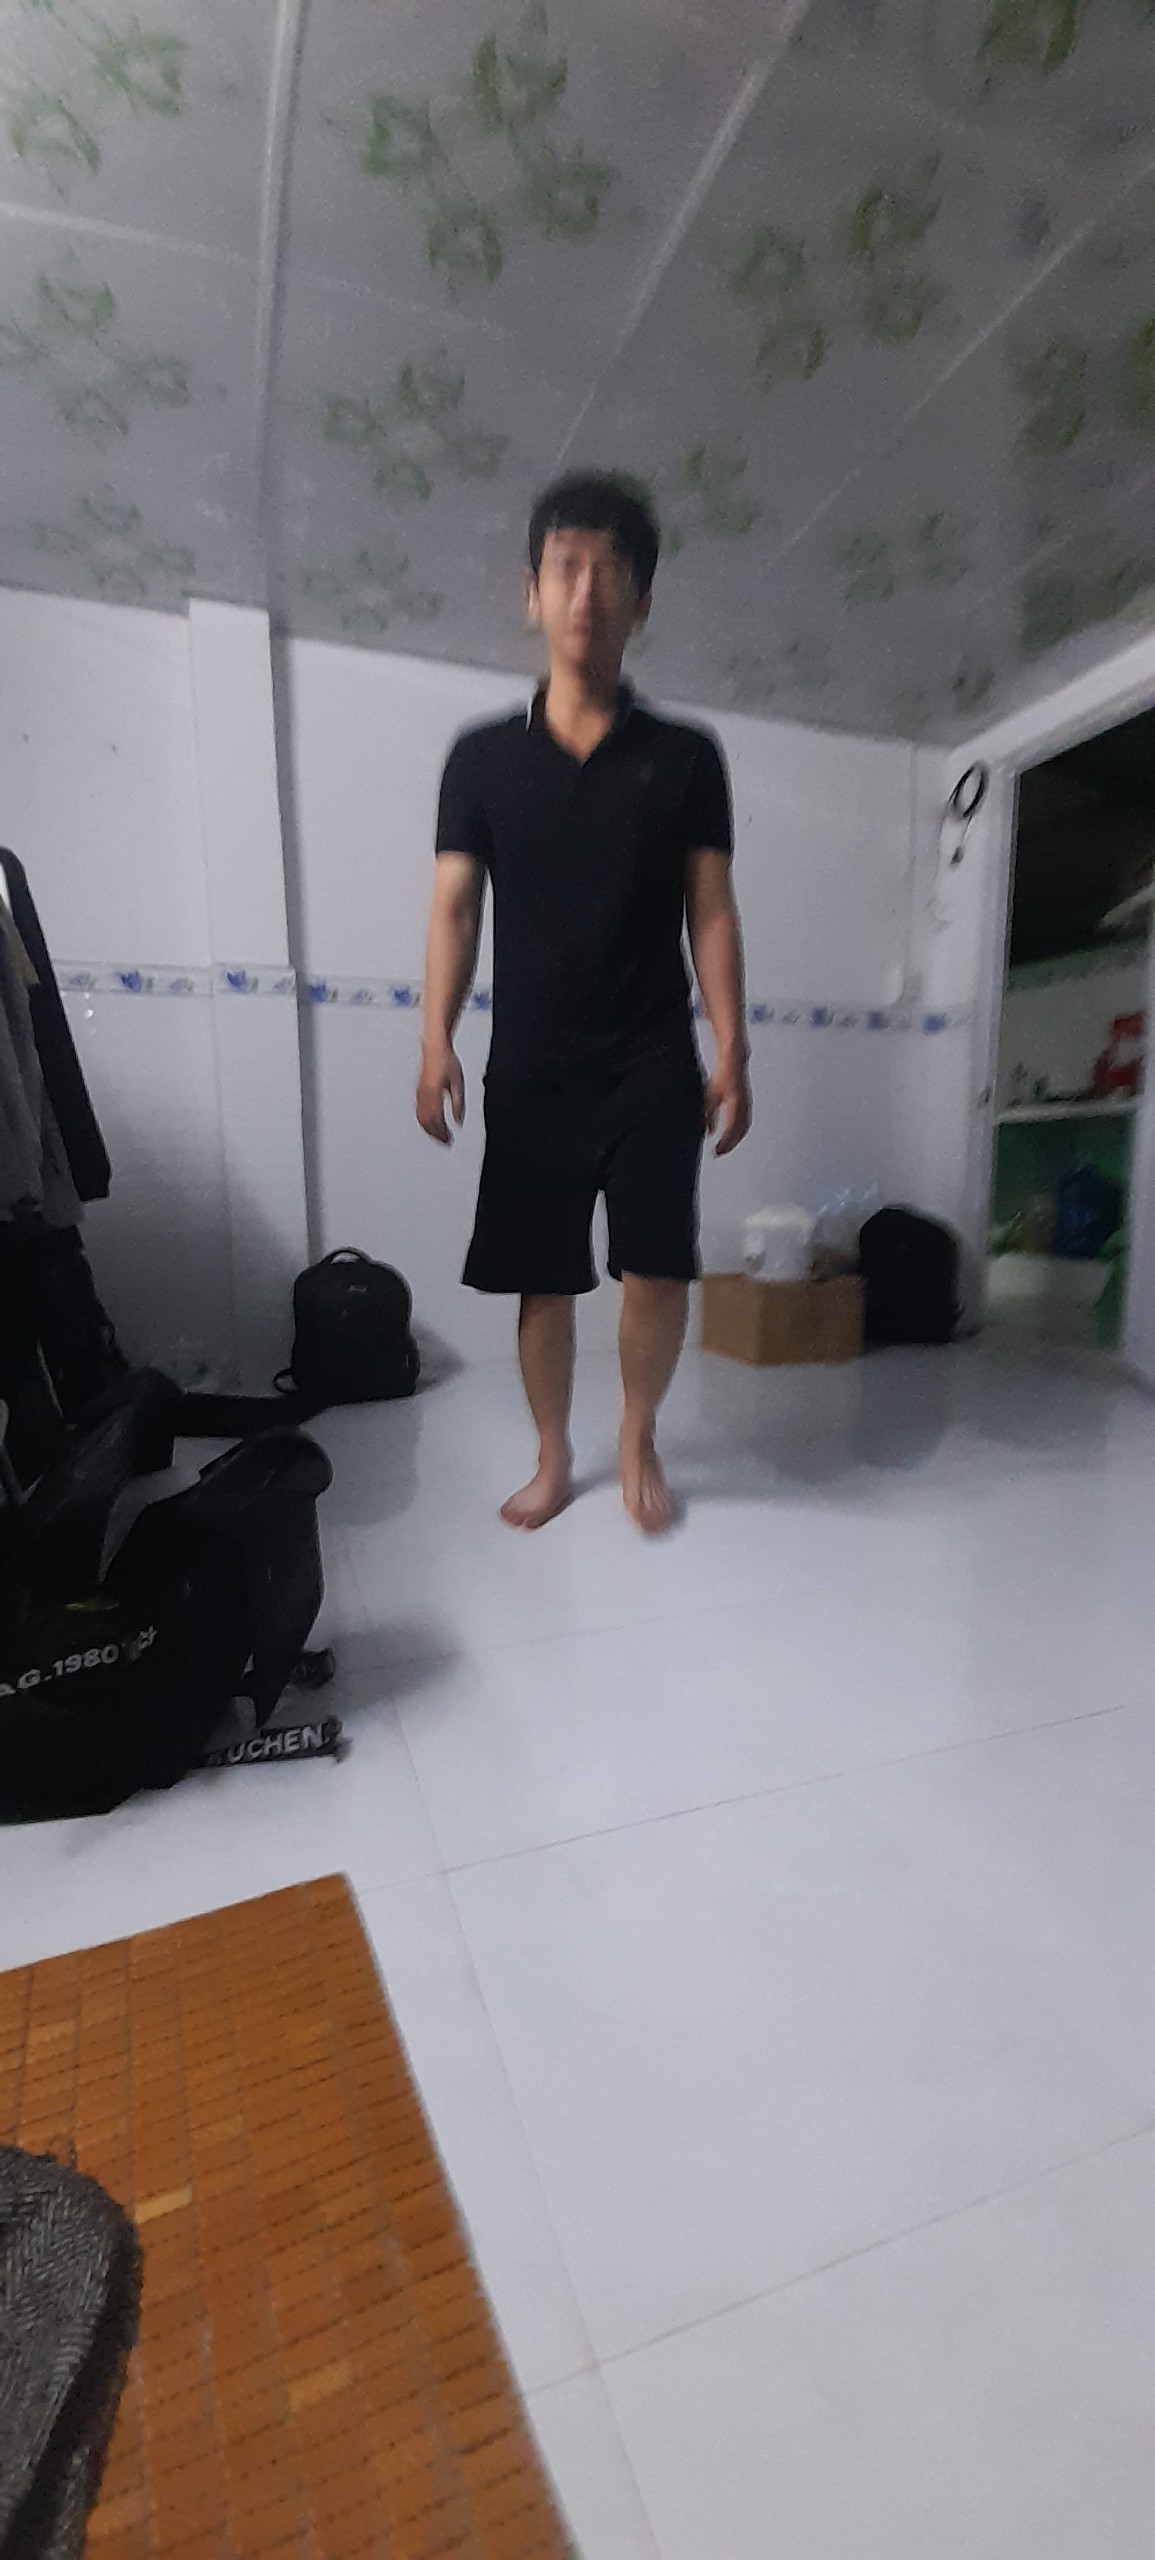person: (430, 476, 754, 1544)
